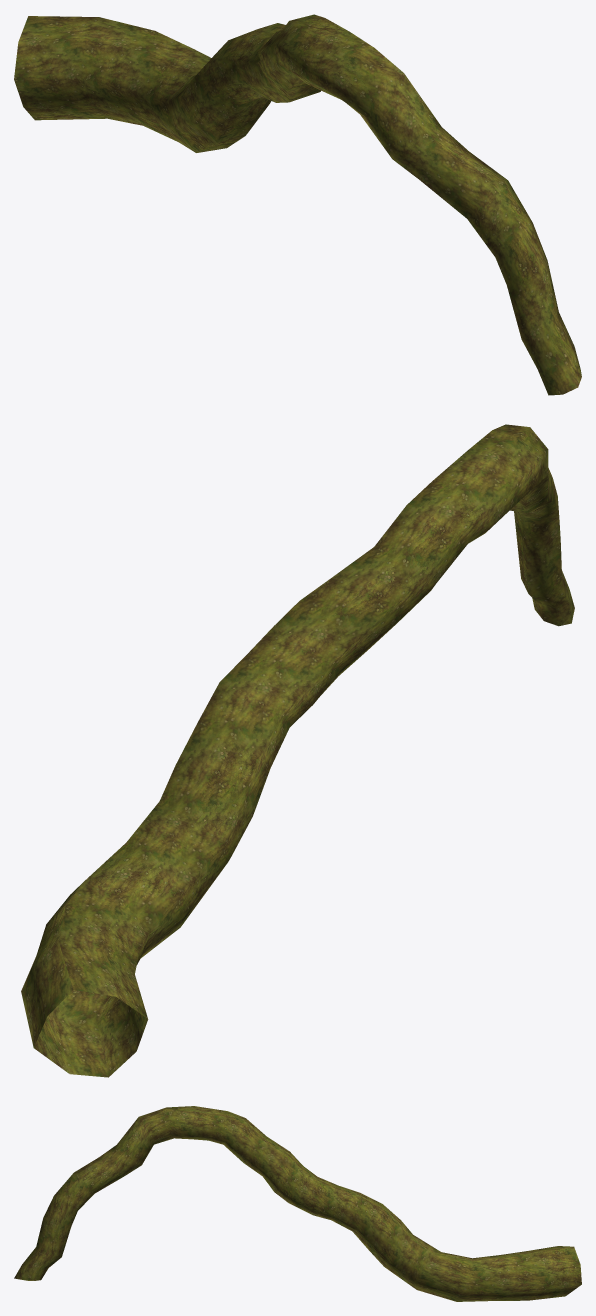
The picture shows the model from 3 angles, top to bottom: view 1: azimuth 30°, elevation 25°; view 2: azimuth 150°, elevation 25°; view 3: azimuth 270°, elevation 25°; orthographic projection. The views are drawn at different scales.
Visible parts, largest first — view 1: UE360; view 2: UE360; view 3: UE360.
Boxes of the visible parts, x1,y1,x2,y2 form: UE360: [14, 14, 581, 395]; UE360: [21, 424, 574, 1077]; UE360: [14, 1106, 581, 1301].
Size of the model in its own units: 19.72 by 37.54 by 106.
